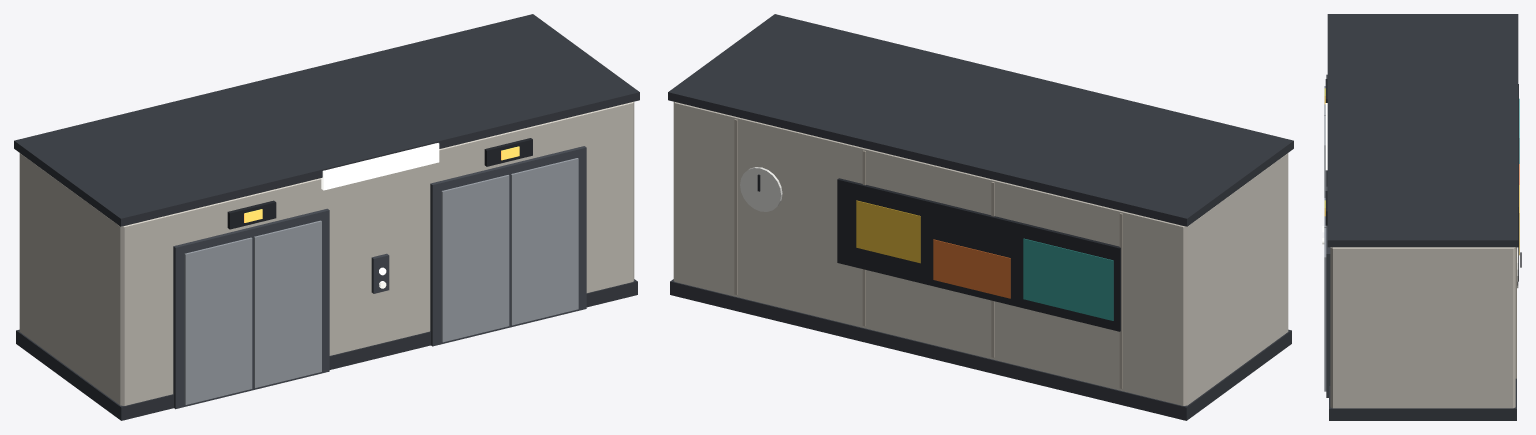
File: lifts.glb
The picture shows the model from 3 angles, left to right: view 1: azimuth 30°, elevation 25°; view 2: azimuth 150°, elevation 25°; view 3: azimuth 270°, elevation 25°; orthographic projection. The views are drawn at different scales.
Parts seen in each view (by area): view 1: lifts_mesh; view 2: lifts_mesh; view 3: lifts_mesh.
Boxes of the visible parts, bbox=[...] form: lifts_mesh: bbox=[14, 14, 639, 420]; lifts_mesh: bbox=[668, 14, 1293, 420]; lifts_mesh: bbox=[1322, 14, 1521, 420].
Size of the model in its own units: 4.04 by 1.51 by 1.5.
